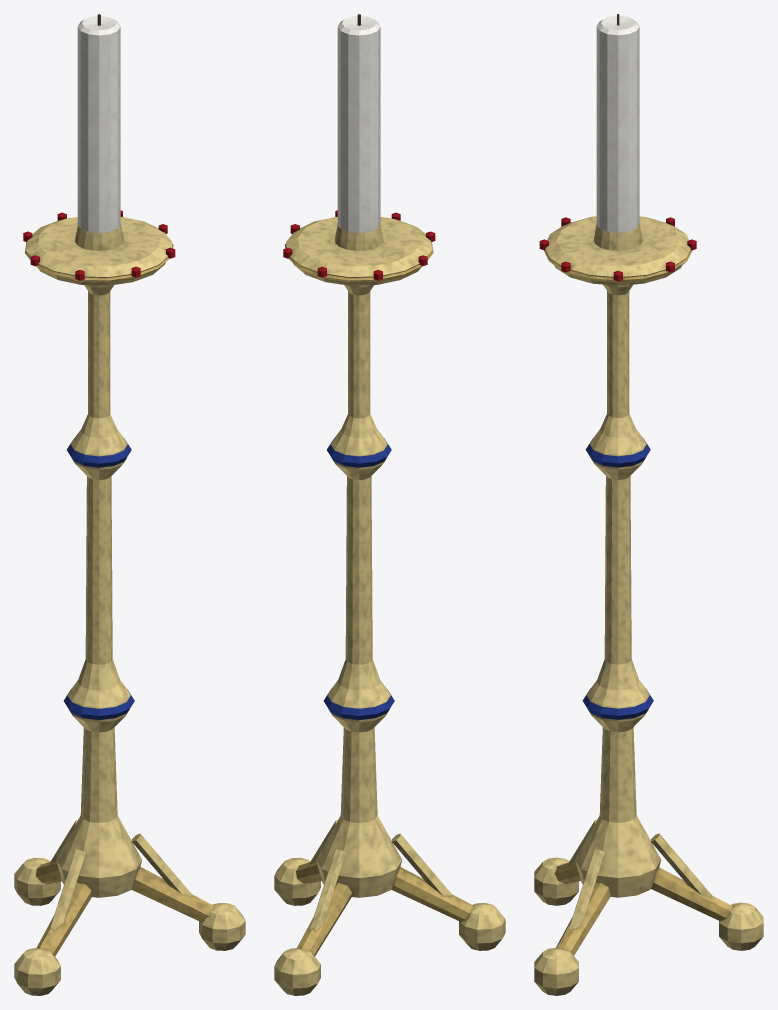
Rendered from candle_stand_tex.glb.
3 renders of one model, left to right at view 1: azimuth 30°, elevation 25°; view 2: azimuth 150°, elevation 25°; view 3: azimuth 270°, elevation 25°, orthographic.
Visible parts, largest first — view 1: candle_stand; view 2: candle_stand; view 3: candle_stand.
Part boxes in pixels (x1=…): candle_stand: x1=14, y1=14, x2=245, y2=995; candle_stand: x1=274, y1=14, x2=505, y2=995; candle_stand: x1=534, y1=14, x2=763, y2=995.
Bounding box in the file's own units: 0.4225 × 1.67 × 0.3724.
Materials: 6 (6 with a texture image).
